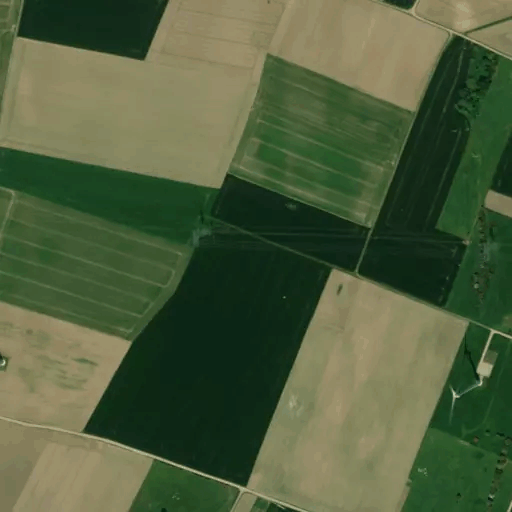wt: (438, 328, 487, 426)
